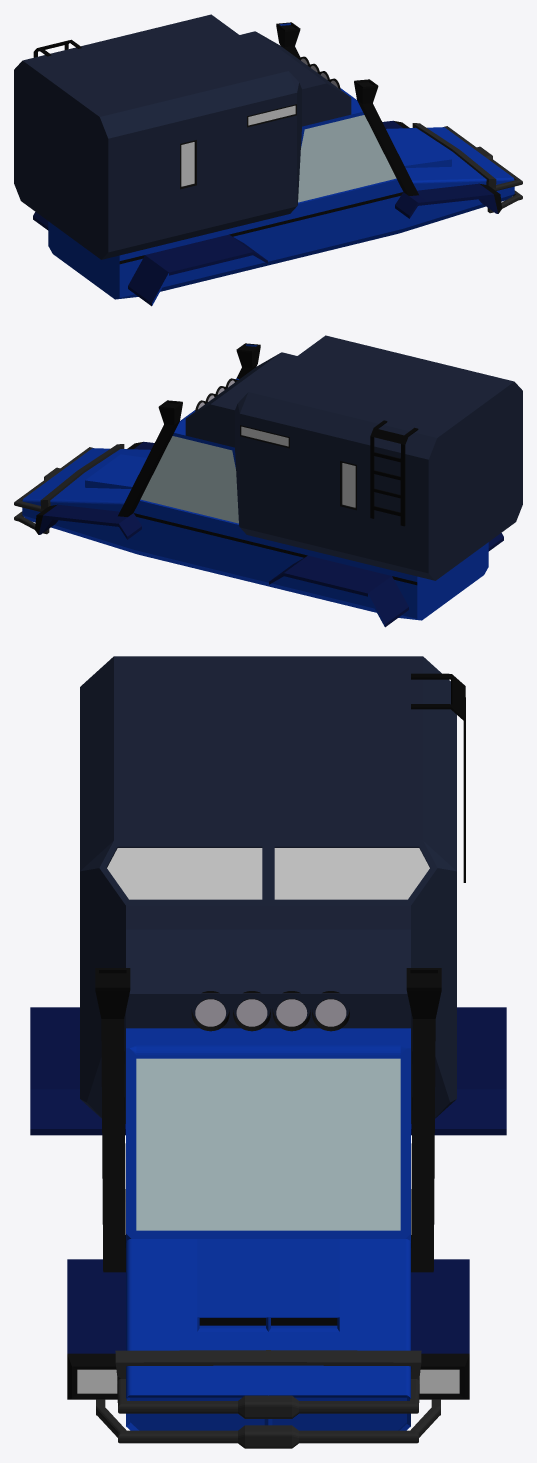
File: CarChasis_Blue.obj
The picture shows the model from 3 angles, top to bottom: view 1: azimuth 30°, elevation 25°; view 2: azimuth 150°, elevation 25°; view 3: azimuth 270°, elevation 25°; orthographic projection. The views are drawn at different scales.
Visible parts, largest first — view 1: Cube.002, Cube.001, Cube.003; view 2: Cube.002, Cube.001, Plane.001, Cube.003; view 3: Cube.001, Cube.002, Cube.003, Circle.007, Plane.001.
Boxes of the visible parts, x1,y1,x2,y2 form: Cube.002: (14,14,351,259); Cube.001: (33,22,514,306); Cube.003: (412,123,522,213); Cube.002: (185,335,522,580); Cube.001: (22,343,503,627); Plane.001: (370,420,418,526); Cube.003: (14,444,124,534); Cube.001: (30,968,506,1430); Cube.002: (80,656,456,1123); Cube.003: (96,1350,440,1448); Circle.007: (191,991,349,1031); Plane.001: (411,673,465,882).
Bounding box in the file's own units: 3.59 × 1.6 × 1.74.
